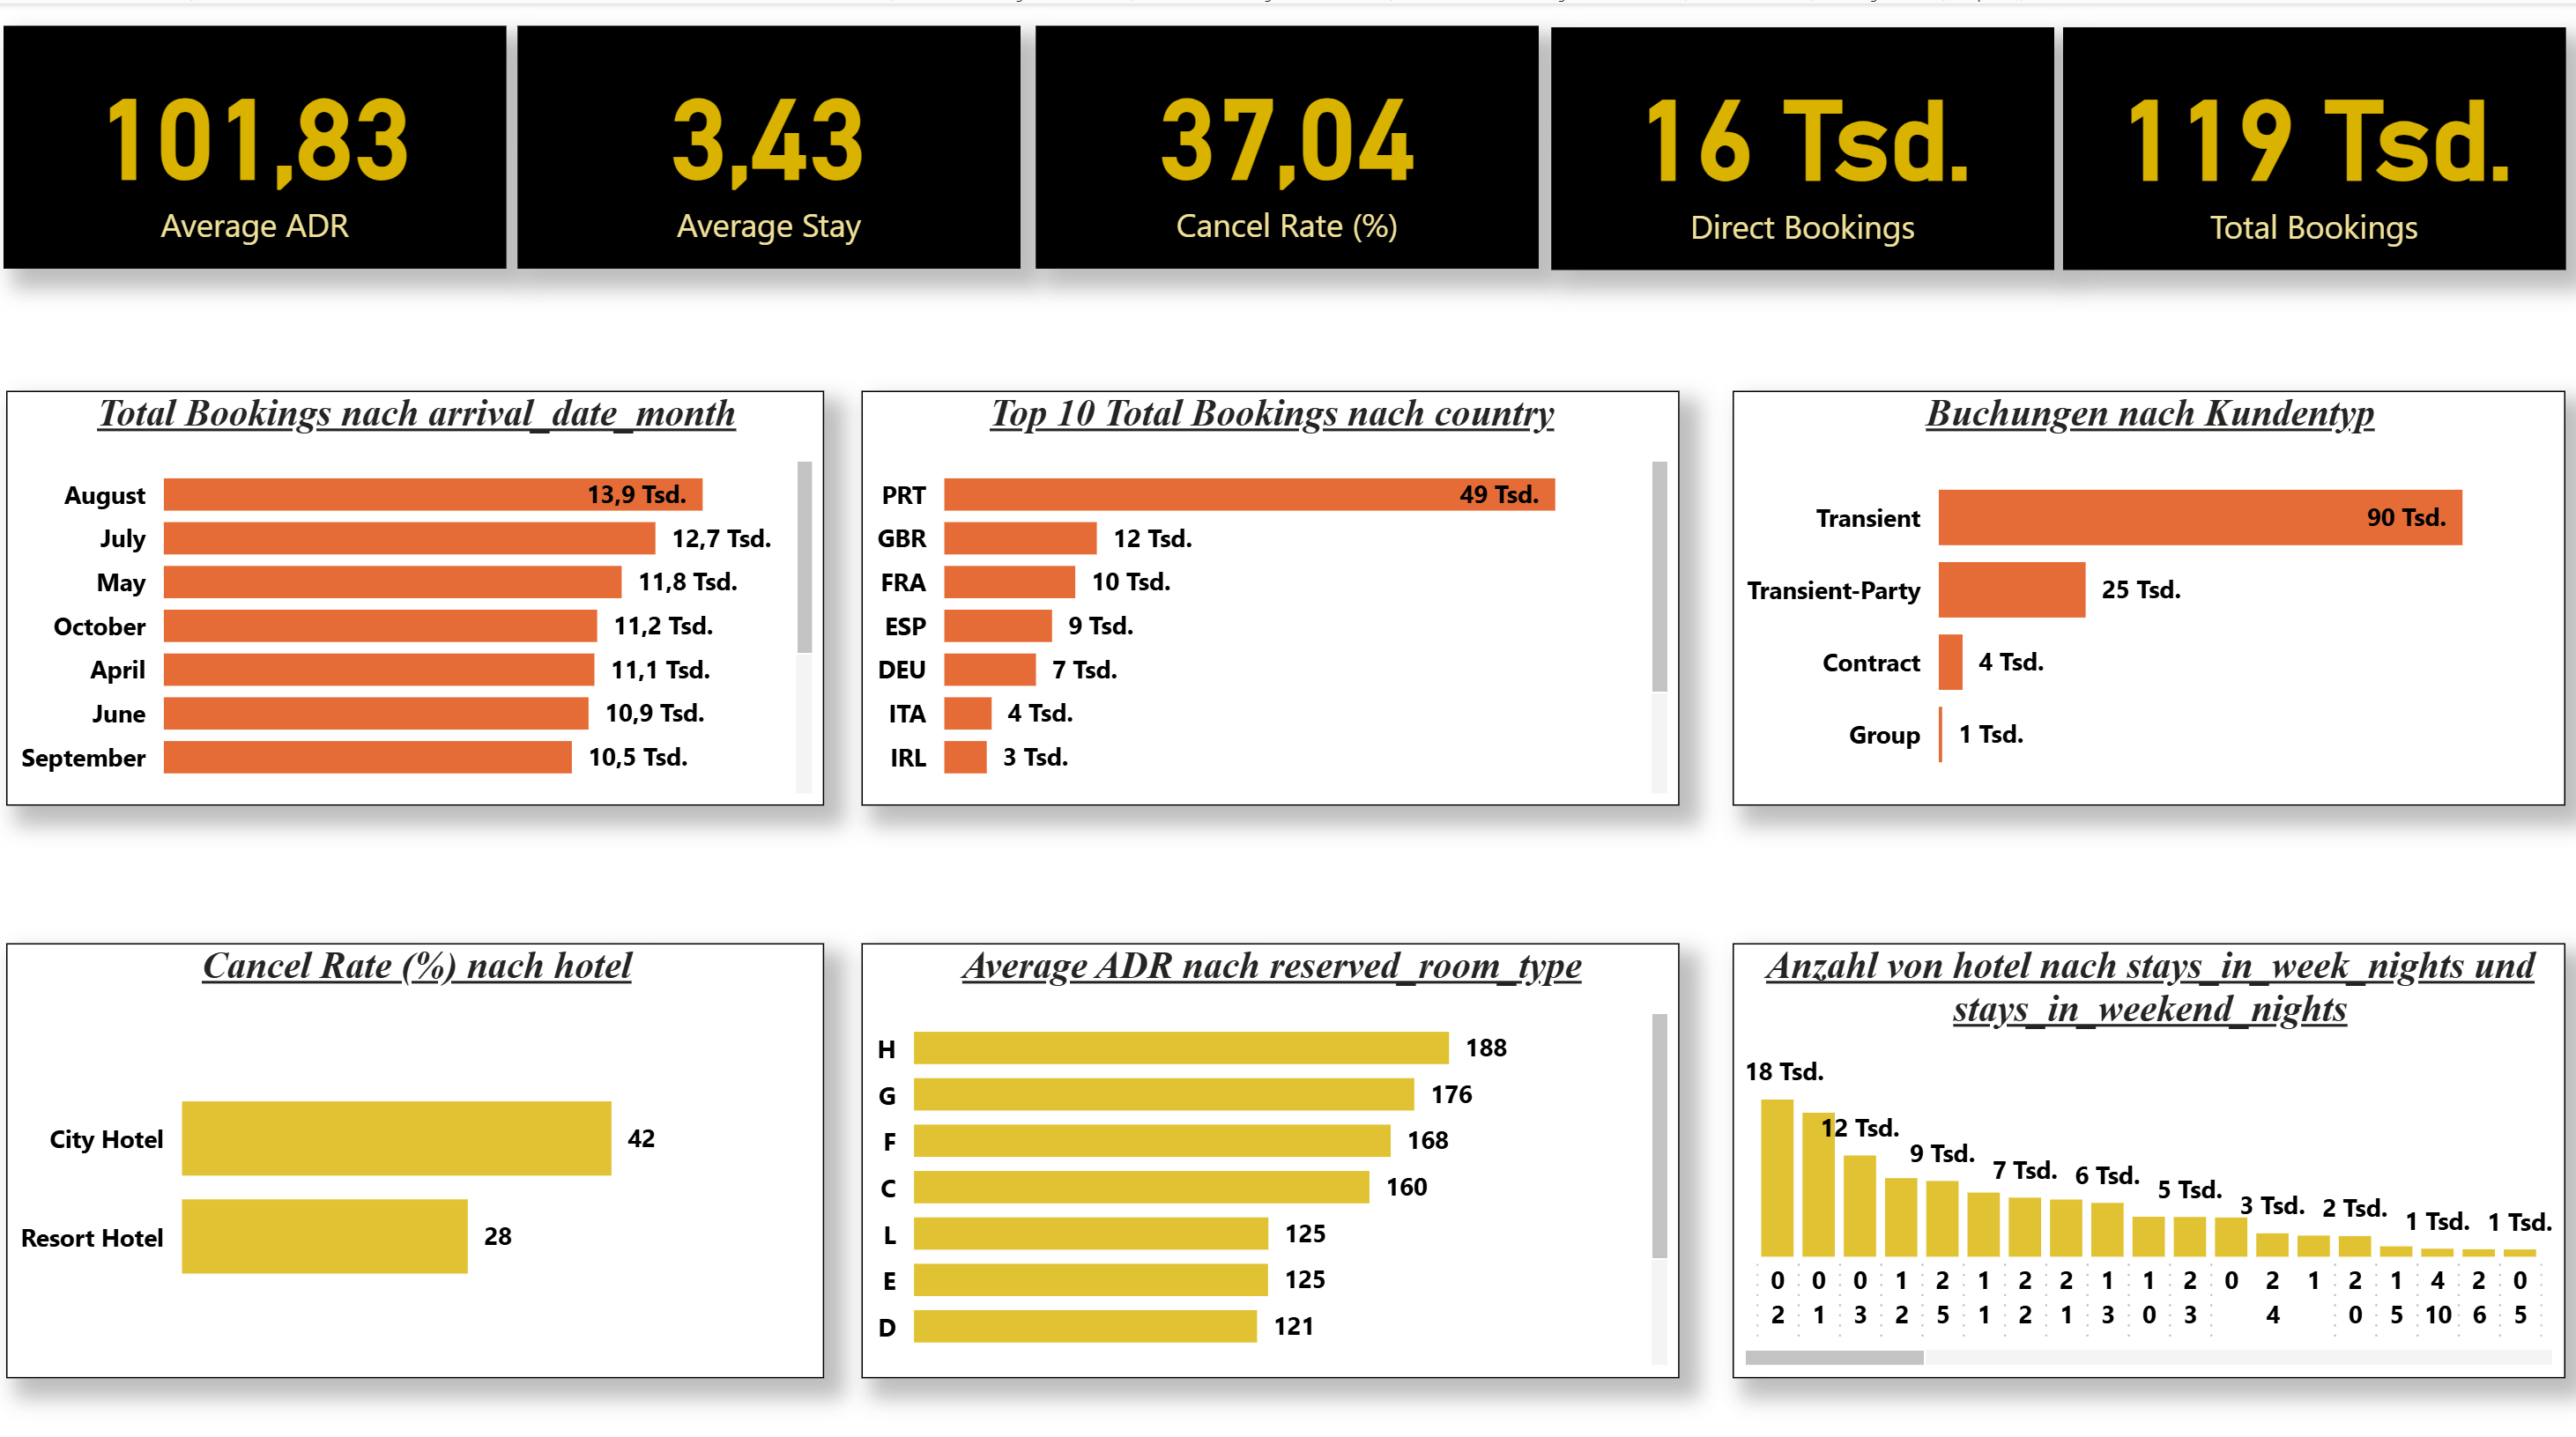

The page's visual inventory and layout, read from the dashboard file:
{"tool":"powerbi","page":{"name":"Buchungsübersicht","canvas":[1280,720],"ordinal":0},"visuals":[{"type":"card","fields":{"Values":["Measures (2).Average ADR"]},"box":[5.2,11.1,248.5,119.7],"z":0},{"type":"card","fields":{"Values":["Measures (2).Average Stay"]},"box":[259.6,11.1,248.5,119.7],"z":1000},{"type":"card","fields":{"Values":["Measures (2).Cancel Rate (%)"]},"box":[516,11.1,248.5,119.7],"z":2000},{"type":"card","fields":{"Values":["Measures (2).Direct Bookings"]},"box":[771,11.8,248.5,119.7],"z":3000},{"type":"card","fields":{"Values":["Measures (2).Total Bookings"]},"box":[1024.1,11.8,248.5,119.7],"z":4000},{"type":"barChart","fields":{"Y":["Measures (2).Total Bookings"],"Category":["hotel_bookings.arrival_date_month"]},"box":[6.5,191.6,404.8,205.3],"z":4001},{"type":"barChart","fields":{"Category":["hotel_bookings.hotel"],"Y":["Measures (2).Cancel Rate (%)"]},"box":[6.5,465,404.8,215.2],"z":4002},{"type":"barChart","title":"Top 10 Total Bookings nach country","fields":{"Category":["hotel_bookings.country"],"Y":["Measures (2).Total Bookings"]},"box":[429.6,191.6,404.8,205.3],"z":4003},{"type":"barChart","title":"Buchungen nach Kundentyp","fields":{"Category":["hotel_bookings.customer_type"],"Y":["Measures (2).Total Bookings"]},"box":[860.6,191.6,412,205.3],"z":4004},{"type":"barChart","fields":{"Category":["hotel_bookings.reserved_room_type"],"Y":["Measures (2).Average ADR"]},"box":[429.6,465,404.8,215.2],"z":4005},{"type":"columnChart","fields":{"Category":["hotel_bookings.stays_in_week_nights","hotel_bookings.stays_in_weekend_nights"],"Y":["CountNonNull(hotel_bookings.hotel)"]},"box":[860.6,465,412,215.2],"z":4006}]}

Visuals, with their boxes in screenshot pixels (x1, y1, x2, y2), scaled from the page's 1280x720 canvas onto the 2576x1437 screenshot:
card - Measures (2).Average ADR: <box>11,22,510,261</box>
card - Measures (2).Average Stay: <box>523,22,1022,261</box>
card - Measures (2).Cancel Rate (%): <box>1038,22,1539,261</box>
card - Measures (2).Direct Bookings: <box>1552,24,2052,263</box>
card - Measures (2).Total Bookings: <box>2061,24,2561,263</box>
barChart - Measures (2).Total Bookings x hotel_bookings.arrival_date_month: <box>13,382,828,792</box>
barChart - hotel_bookings.hotel x Measures (2).Cancel Rate (%): <box>13,928,828,1358</box>
"Top 10 Total Bookings nach country" barChart: <box>865,382,1679,792</box>
"Buchungen nach Kundentyp" barChart: <box>1732,382,2561,792</box>
barChart - hotel_bookings.reserved_room_type x Measures (2).Average ADR: <box>865,928,1679,1358</box>
columnChart - hotel_bookings.stays_in_week_nights x hotel_bookings.stays_in_weekend_nights: <box>1732,928,2561,1358</box>
